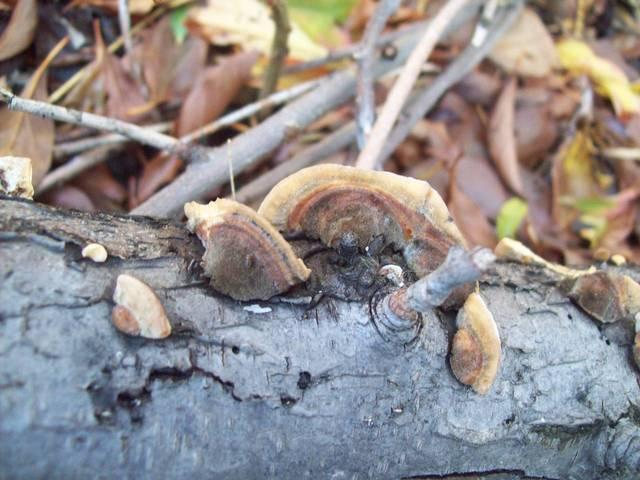poisonous_mushroom: (255, 161, 502, 394), (182, 195, 312, 303)
